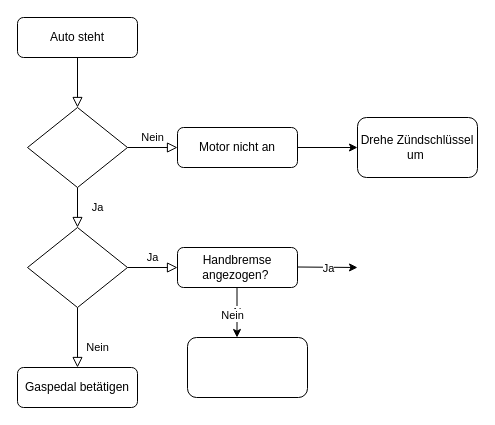
Some shapes in this 495 by 425 pixel diagram are drawn without their labels. Here are the shapes that lost their labels. From the top down, the centre of each, then its label:
At (77,147): "Motor an?".
At (77,267): "Gaspedal betätigt?".
At (247,367): "Leerlauf?".
